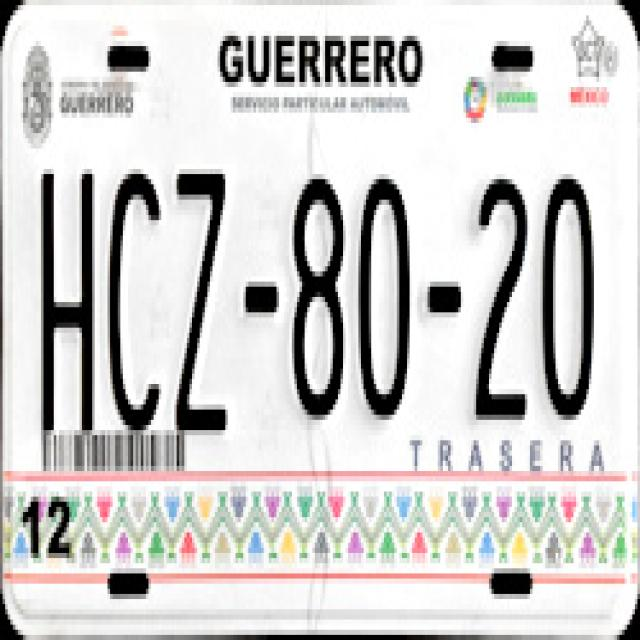placa: (24, 138, 606, 431)
